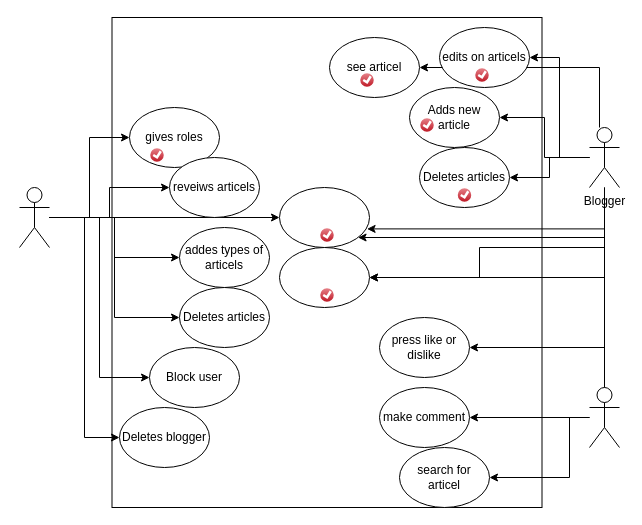
The diagram is 642 pixels wide and 525 high, and some of its shapes have lost their labels. The shapes that lost their labels are listed below. From the top down, each one's box as (x1, y1, x2, y2) in pixels, then its label:
(18, 186, 50, 248): Admin
(278, 186, 370, 248): log in
(278, 246, 370, 308): register
(588, 386, 620, 448): Reader
